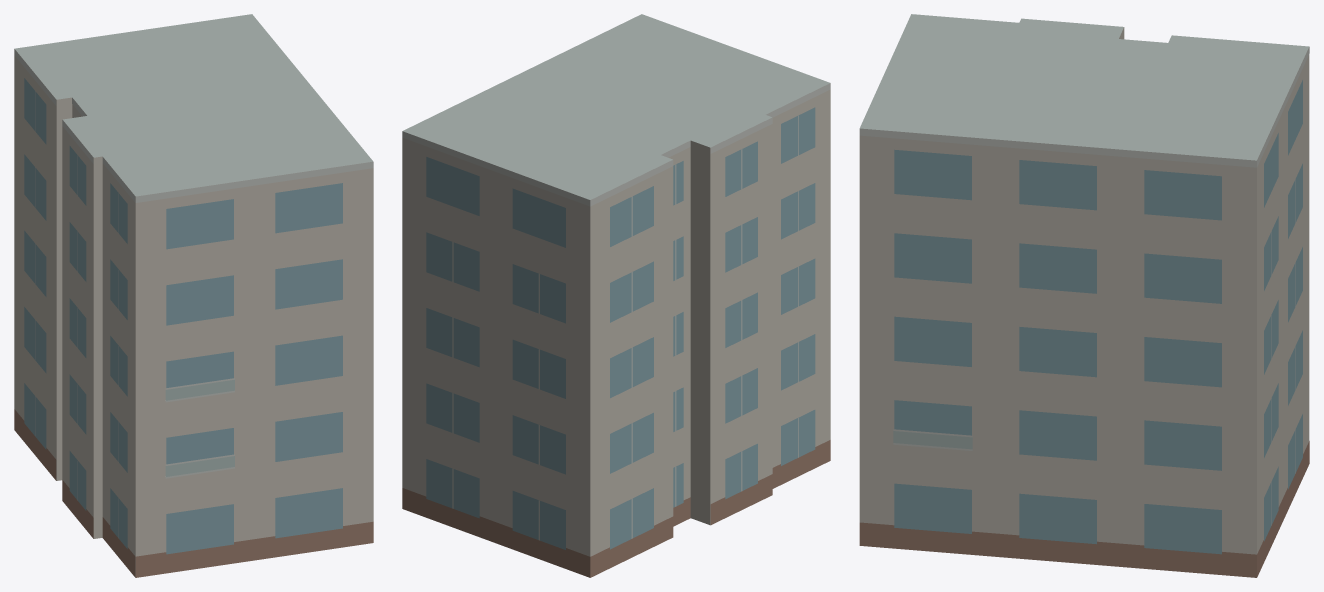
Rendered from survey-upis-32536314.glb.
3 views of the same model, side by side, from view 1: azimuth 30°, elevation 25°; view 2: azimuth 150°, elevation 25°; view 3: azimuth 270°, elevation 25° (orthographic). The views are drawn at different scales.
Parts seen in each view (by area): view 1: survey-upis-32536314.tmp; view 2: survey-upis-32536314.tmp; view 3: survey-upis-32536314.tmp.
Boxes of the visible parts, <box> form: survey-upis-32536314.tmp: <box>14,14,373,577</box>; survey-upis-32536314.tmp: <box>402,14,830,577</box>; survey-upis-32536314.tmp: <box>859,14,1309,577</box>.
Size of the model in its own units: 10.78 by 14.3 by 13.98.
